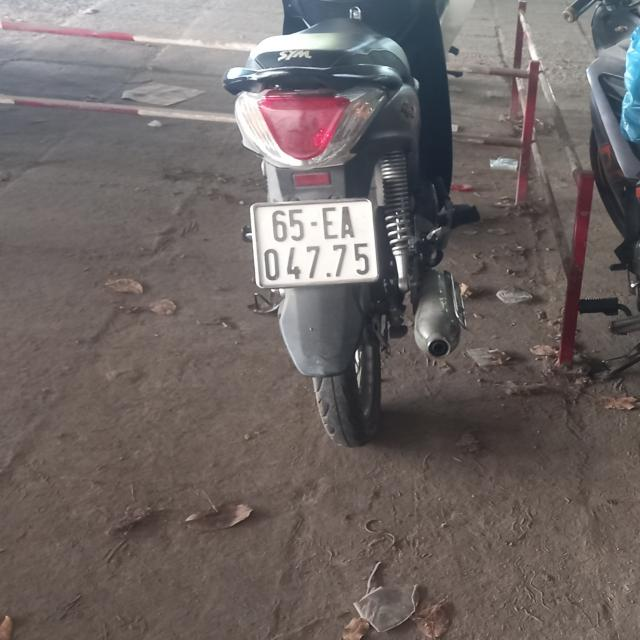0: (264, 249, 280, 281)
4: (288, 247, 302, 280)
5: (289, 209, 304, 240), (354, 243, 368, 275)
6: (272, 210, 286, 242)
7: (306, 246, 320, 279), (332, 244, 346, 277)
A: (340, 206, 355, 238)
E: (322, 206, 337, 241)
